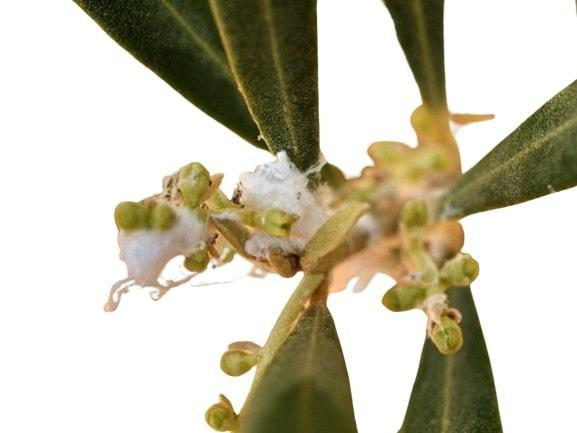Psyllid: (104, 154, 331, 298)
